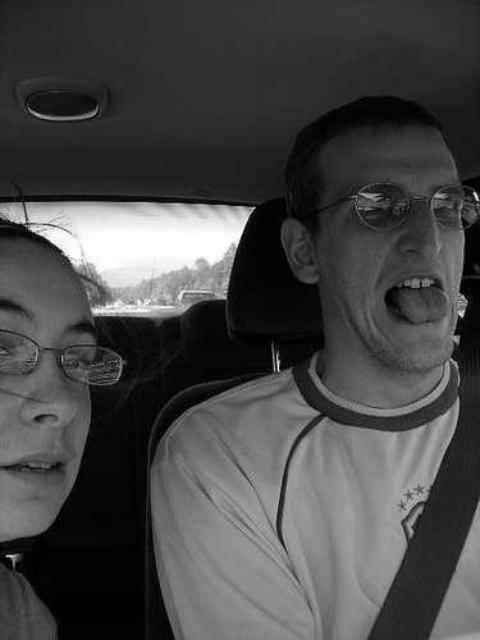SafeDriving: (344, 184, 404, 233)
Seatbelt: (364, 292, 480, 640)
